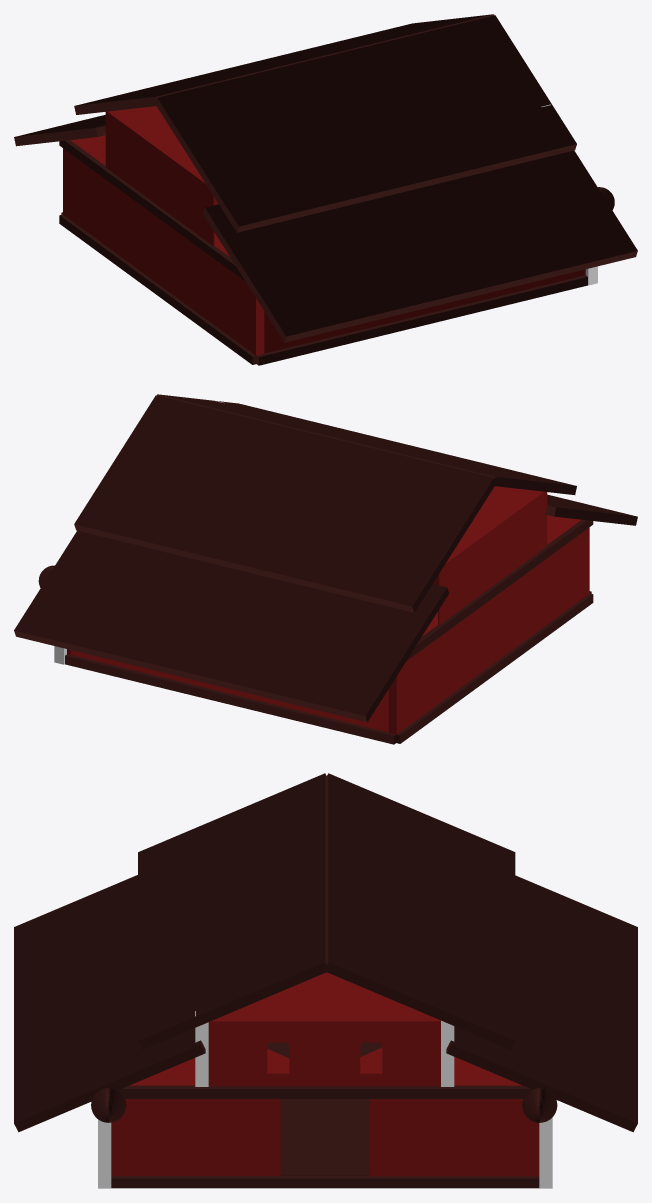
File: barn_main.FBX
3 renders of one model, top to bottom at view 1: azimuth 30°, elevation 25°; view 2: azimuth 150°, elevation 25°; view 3: azimuth 270°, elevation 25°, orthographic. The views are drawn at different scales.
Visible parts, largest first — view 1: Cube.020; view 2: Cube.020; view 3: Cube.020.
Boxes of the visible parts, <box> form: Cube.020: <box>14,14,637,365</box>; Cube.020: <box>14,394,637,744</box>; Cube.020: <box>14,773,637,1188</box>.
Bounding box in the file's own units: 903 × 461 × 1160.
